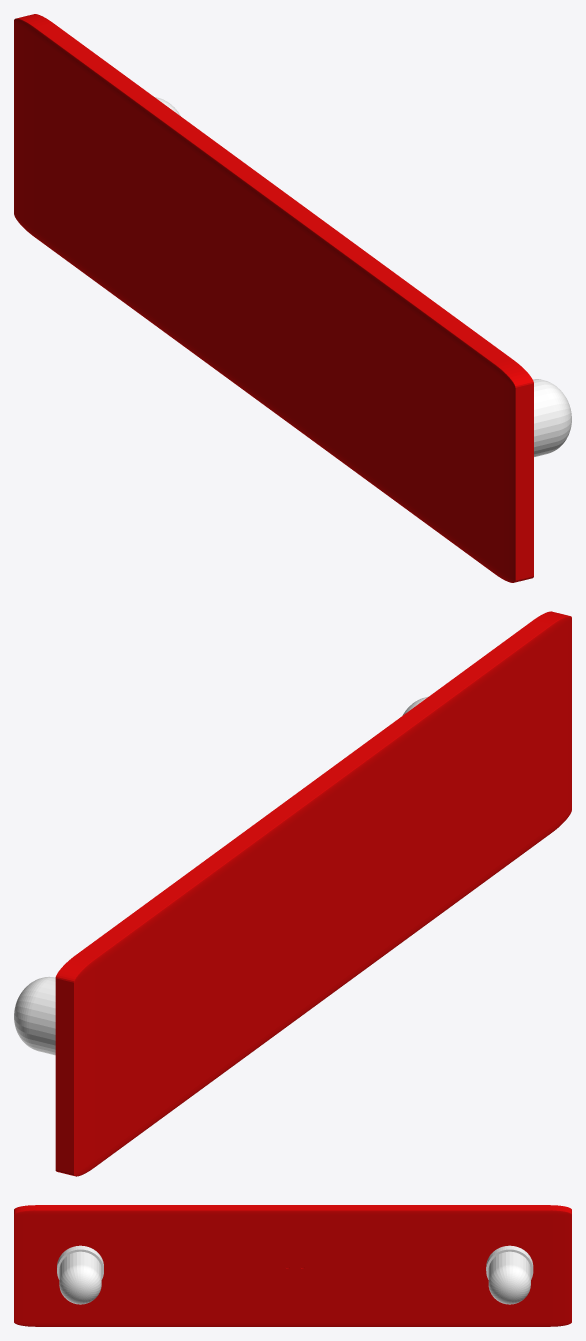
File: back_bumper.dae
The picture shows the model from 3 angles, top to bottom: view 1: azimuth 30°, elevation 25°; view 2: azimuth 150°, elevation 25°; view 3: azimuth 270°, elevation 25°; orthographic projection. The views are drawn at different scales.
Visible parts, largest first — view 1: Terrific_Blad, Terrific_Blad_001; view 2: Terrific_Blad, Terrific_Blad_003; view 3: Terrific_Blad, Terrific_Blad_003, Terrific_Blad_001.
Part boxes in pixels (left/top/right/bottom): Terrific_Blad: left=14, top=14, right=533, bottom=582; Terrific_Blad_001: left=533, top=379, right=571, bottom=456; Terrific_Blad: left=55, top=611, right=571, bottom=1176; Terrific_Blad_003: left=14, top=976, right=55, bottom=1055; Terrific_Blad: left=14, top=1205, right=571, bottom=1326; Terrific_Blad_003: left=486, top=1245, right=533, bottom=1304; Terrific_Blad_001: left=57, top=1245, right=103, bottom=1304.
Bounding box in the file's own units: 1.66 × 13 × 3.
